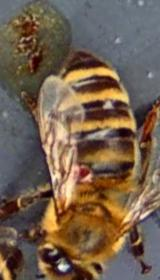varroa_mite: (62, 158, 108, 186)
